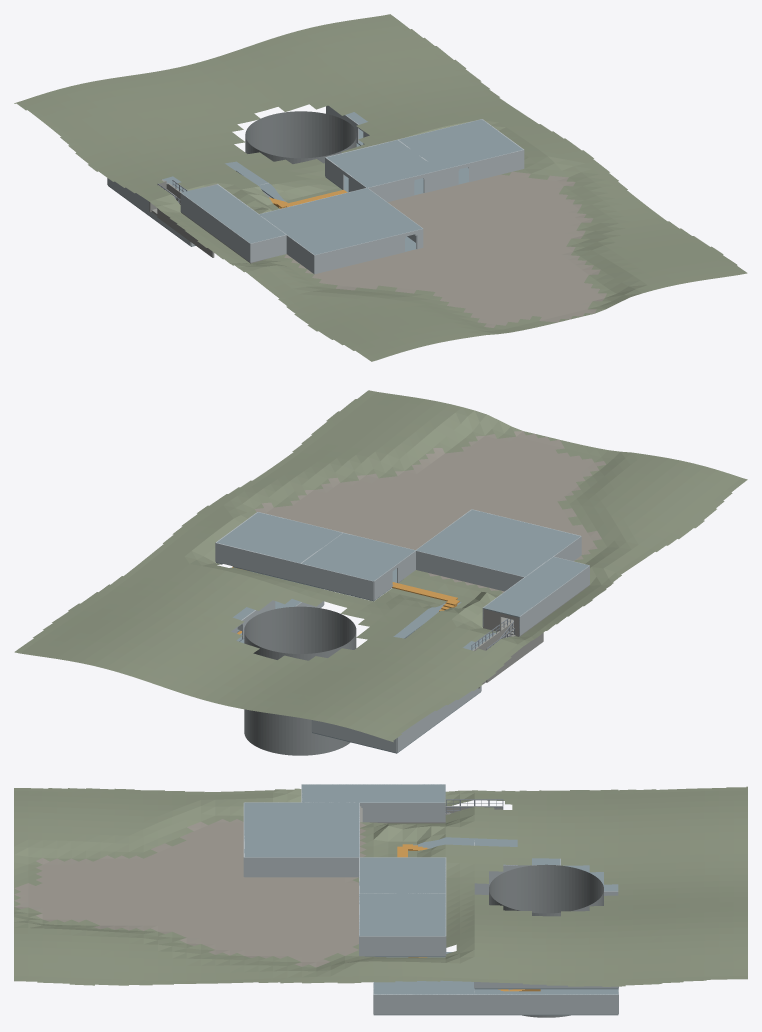
File: saved-earthworks.glb
The picture shows the model from 3 angles, top to bottom: view 1: azimuth 30°, elevation 25°; view 2: azimuth 150°, elevation 25°; view 3: azimuth 270°, elevation 25°; orthographic projection. The views are drawn at different scales.
Visible parts, largest first — view 1: Saved editor geographic earthworks WLD-18, Ceiling cap servicehouse, EMPTY SHAFT / guard engineering pending, Ceiling cap shop, Ceiling cap head, Ceiling cap exit, Flat route shell Wall servicehouse S, Wall exit W, Flat route shell Wall shop S.001, Flat route shell Wall head S, Wall exit S, Wall servicehouse W.001; view 2: Saved editor geographic earthworks WLD-18, EMPTY SHAFT / guard engineering pending, Ceiling cap servicehouse, Ceiling cap shop, Ceiling cap head, Ceiling cap exit, Flat route shell Wall servicehouse N, Wall shop N, Wall head N, Wall exit W, Wall pump N, Wall pump W; view 3: Saved editor geographic earthworks WLD-18, Ceiling cap servicehouse, EMPTY SHAFT / guard engineering pending, Ceiling cap shop, Ceiling cap head, Wall east E, Ceiling cap exit, Wall servicehouse E, Wall plant E, Wall shop E, Flat route shell Wall exit E, Ceiling cap plant (+2 smaller).
Boxes of the visible parts, x1,y1,x2,y2 form: Saved editor geographic earthworks WLD-18: [14, 14, 747, 361]; Ceiling cap servicehouse: [259, 188, 422, 254]; EMPTY SHAFT / guard engineering pending: [245, 111, 356, 189]; Ceiling cap shop: [399, 119, 522, 170]; Ceiling cap head: [326, 140, 438, 187]; Ceiling cap exit: [181, 184, 285, 243]; Flat route shell Wall servicehouse S: [314, 233, 406, 273]; Wall exit W: [180, 193, 250, 262]; Flat route shell Wall shop S.001: [468, 149, 524, 182]; Flat route shell Wall head S: [368, 176, 414, 201]; Wall exit S: [250, 234, 286, 262]; Wall servicehouse W.001: [264, 218, 314, 273]; Saved editor geographic earthworks WLD-18: [14, 390, 747, 742]; EMPTY SHAFT / guard engineering pending: [244, 606, 356, 755]; Ceiling cap servicehouse: [416, 509, 580, 576]; Ceiling cap shop: [217, 512, 341, 563]; Ceiling cap head: [302, 533, 415, 581]; Ceiling cap exit: [483, 557, 589, 617]; Flat route shell Wall servicehouse N: [416, 550, 523, 591]; Wall shop N: [215, 542, 300, 582]; Wall head N: [300, 563, 373, 600]; Wall exit W: [519, 565, 589, 635]; Wall pump N: [311, 720, 396, 752]; Wall pump W: [397, 709, 439, 752]; Saved editor geographic earthworks WLD-18: [14, 786, 747, 986]; Ceiling cap servicehouse: [244, 802, 359, 857]; EMPTY SHAFT / guard engineering pending: [489, 864, 603, 1017]; Ceiling cap shop: [359, 894, 445, 936]; Ceiling cap head: [359, 857, 445, 893]; Wall east E: [474, 994, 618, 1014]; Ceiling cap exit: [302, 784, 445, 802]; Wall servicehouse E: [244, 857, 358, 877]; Wall plant E: [373, 994, 474, 1014]; Wall shop E: [359, 936, 445, 956]; Flat route shell Wall exit E: [361, 802, 445, 822]; Ceiling cap plant: [373, 952, 474, 994].
Bounding box in the file's own units: 64 × 19 × 102.
32 materials, 18 textured.
